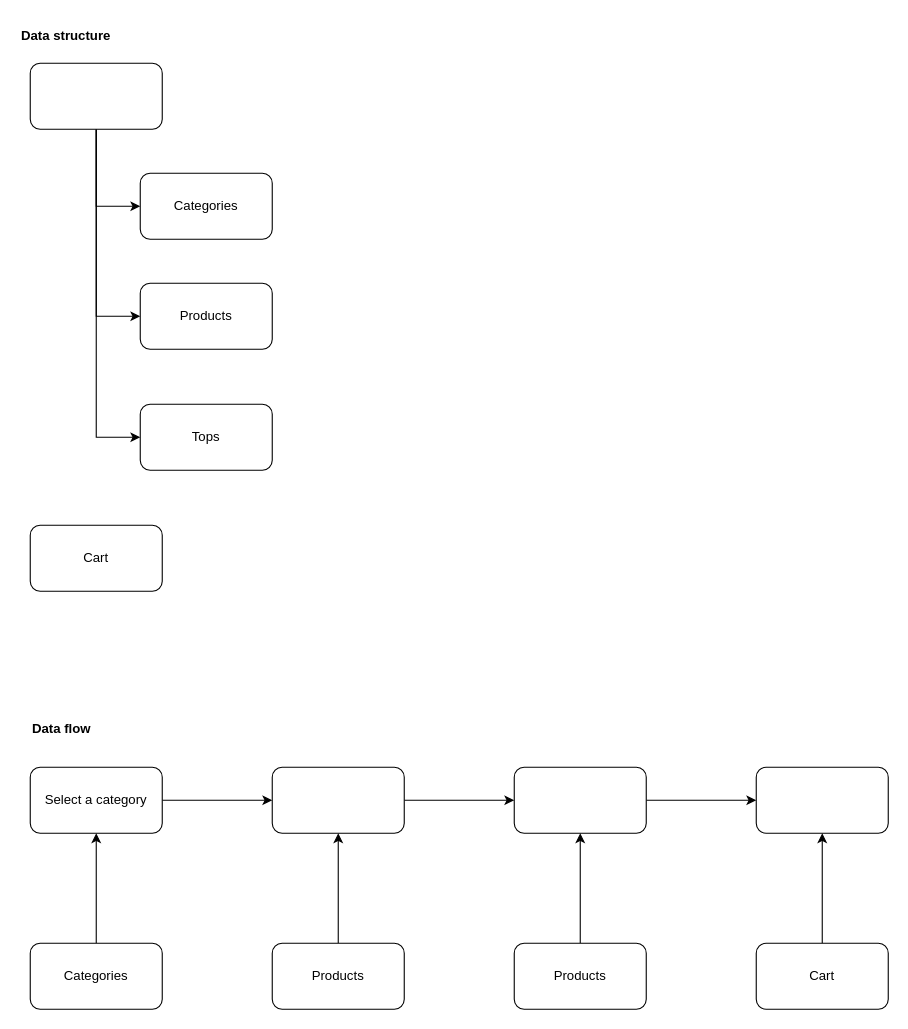
This 908x1029 diagram has some shape labels left out. Here are the shapes that lost their labels. From the top down, the box of each, then its label:
(29, 62, 162, 129): Product Data
(271, 766, 404, 833): Show a product group
(513, 766, 646, 833): Select a product
(755, 766, 888, 833): Add to cart
